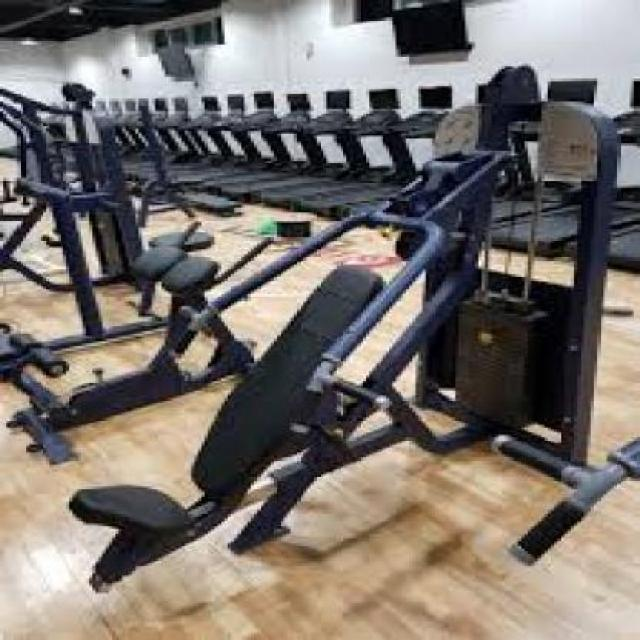shoulder press machine: (63, 89, 631, 600)
